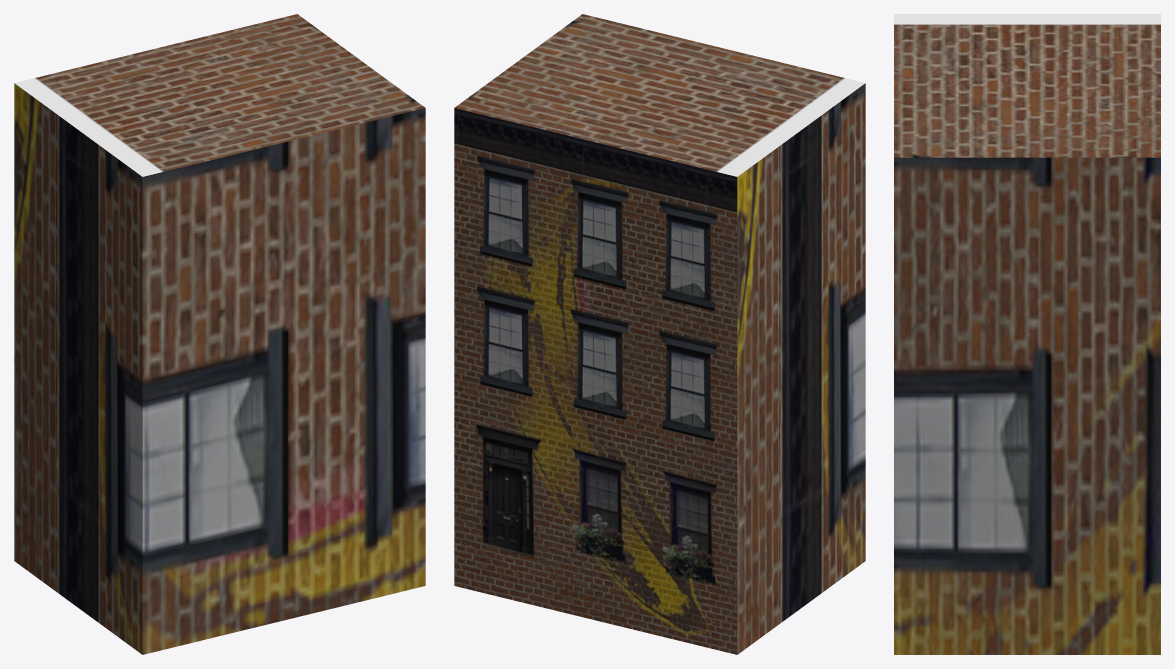
Rendered from building6fbx.fbx.
3 views of the same model, side by side, from view 1: azimuth 30°, elevation 25°; view 2: azimuth 150°, elevation 25°; view 3: azimuth 270°, elevation 25° (orthographic). The views are drawn at different scales.
Visible parts, largest first — view 1: Cube.042; view 2: Cube.042; view 3: Cube.042.
Part boxes in pixels (bbox=[...]): Cube.042: bbox=[14, 14, 425, 654]; Cube.042: bbox=[454, 14, 865, 654]; Cube.042: bbox=[894, 14, 1160, 654].
Size of the model in its own units: 613 by 990 by 482.
